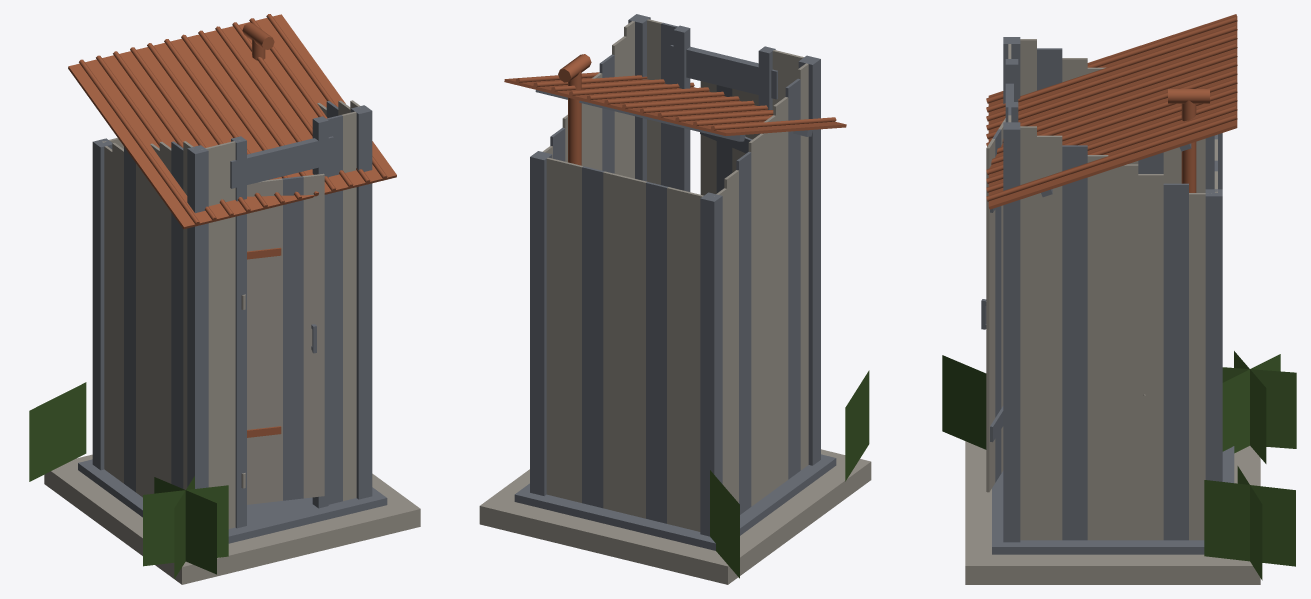
The model's file is field-latrine.glb.
3 views of the same model, side by side, from view 1: azimuth 30°, elevation 25°; view 2: azimuth 150°, elevation 25°; view 3: azimuth 270°, elevation 25° (orthographic). The views are drawn at different scales.
Visible parts, largest first — view 1: Mesh_RoofSheet, Mesh_Foundation, Mesh_PostFR, Mesh_DoorPlank_Inst_3, Mesh_Grass1, Mesh_DoorPlank_Inst_2, Mesh_PostFL, Mesh_DoorPlank_Inst_1, Mesh_FrontPlank_Inst_2, Mesh_FrontPlank_Inst_1, Mesh_FrontPlank_Inst_0, Mesh_Floor (+27 smaller); view 2: Mesh_Foundation, Mesh_BackPlank_Inst_2, Mesh_BackPlank_Inst_4, Mesh_BackPlank_Inst_6, Mesh_BackPlank_Inst_3, Mesh_BackPlank_Inst_1, Mesh_BackPlank_Inst_5, Mesh_PostBR, Mesh_PostBL, Mesh_PostFR, Mesh_BackPlank_Inst_0, Mesh_Floor (+31 smaller); view 3: Mesh_Foundation, Mesh_RoofSheet, Mesh_LeftPlank_Inst_4, Mesh_LeftPlank_Inst_3, Mesh_LeftPlank_Inst_1, Mesh_LeftPlank_Inst_2, Mesh_LeftPlank_Inst_0, Mesh_PlankDark0, Mesh_Grass2, Mesh_PostFL, Mesh_LeftPlank_Inst_5, Mesh_Grass3 (+28 smaller).
Part boxes in pixels (x1,y1,x2,y2): Mesh_RoofSheet: [68, 14, 396, 229]; Mesh_Foundation: [44, 454, 420, 584]; Mesh_PostFR: [187, 145, 208, 488]; Mesh_DoorPlank_Inst_3: [303, 173, 324, 498]; Mesh_Grass1: [143, 476, 228, 578]; Mesh_DoorPlank_Inst_2: [282, 176, 303, 500]; Mesh_PostFL: [351, 105, 372, 499]; Mesh_DoorPlank_Inst_1: [262, 178, 282, 502]; Mesh_FrontPlank_Inst_2: [219, 140, 239, 528]; Mesh_FrontPlank_Inst_1: [322, 115, 342, 504]; Mesh_FrontPlank_Inst_0: [342, 111, 356, 501]; Mesh_Floor: [78, 459, 387, 543]; Mesh_Foundation: [479, 449, 871, 584]; Mesh_BackPlank_Inst_2: [582, 166, 604, 508]; Mesh_BackPlank_Inst_4: [624, 176, 646, 518]; Mesh_BackPlank_Inst_6: [667, 187, 689, 528]; Mesh_BackPlank_Inst_3: [603, 171, 625, 513]; Mesh_BackPlank_Inst_1: [560, 161, 582, 502]; Mesh_BackPlank_Inst_5: [646, 182, 667, 523]; Mesh_PostBR: [700, 192, 722, 536]; Mesh_PostBL: [530, 151, 552, 495]; Mesh_PostFR: [798, 55, 820, 465]; Mesh_BackPlank_Inst_0: [546, 157, 561, 497]; Mesh_Floor: [514, 454, 836, 550]; Mesh_Foundation: [965, 441, 1260, 584]; Mesh_RoofSheet: [988, 14, 1237, 209]; Mesh_LeftPlank_Inst_4: [1037, 135, 1062, 540]; Mesh_LeftPlank_Inst_3: [1062, 145, 1087, 540]; Mesh_LeftPlank_Inst_1: [1113, 164, 1138, 540]; Mesh_LeftPlank_Inst_2: [1087, 155, 1112, 540]; Mesh_LeftPlank_Inst_0: [1138, 174, 1163, 540]; Mesh_PlankDark0: [1163, 183, 1188, 540]; Mesh_Grass2: [1204, 466, 1295, 580]; Mesh_PostFL: [1003, 122, 1020, 542]; Mesh_LeftPlank_Inst_5: [1020, 126, 1036, 540]; Mesh_Grass3: [1222, 351, 1296, 463].
Size of the model in its own units: 1.73 by 2.44 by 1.74.
